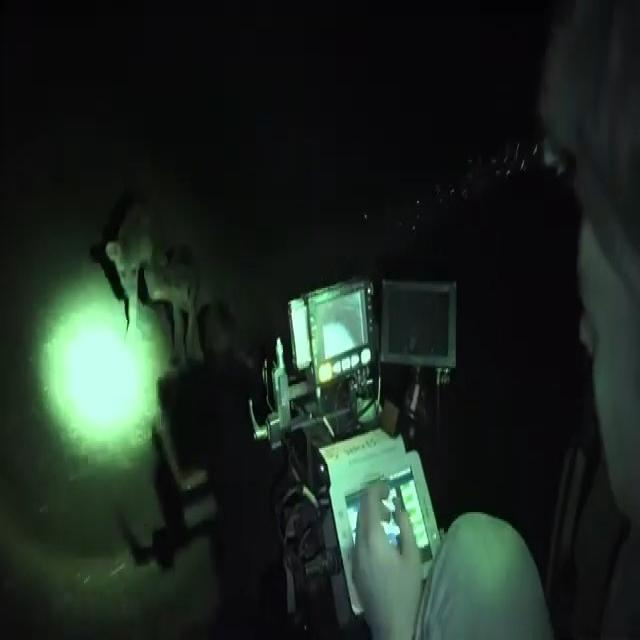animal: (101, 186, 217, 344)
device: (233, 220, 467, 612)
